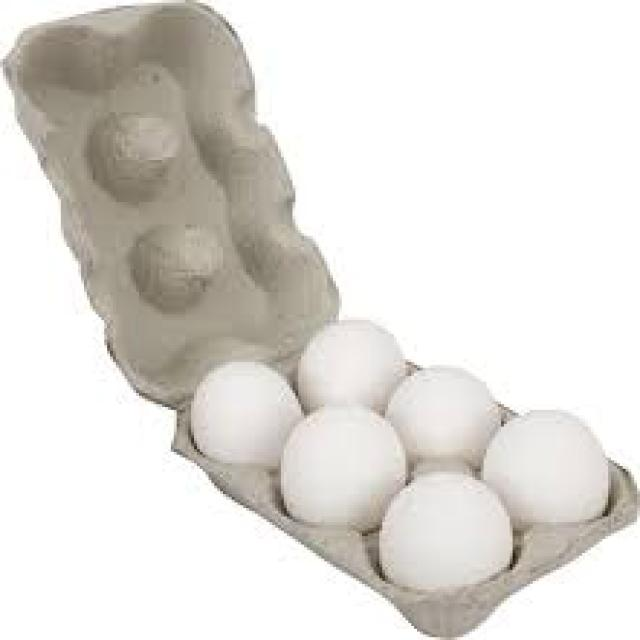White Egg: (377, 472, 518, 601), (276, 400, 408, 534), (380, 358, 516, 480), (482, 404, 613, 524), (190, 359, 294, 468), (296, 314, 413, 408)
